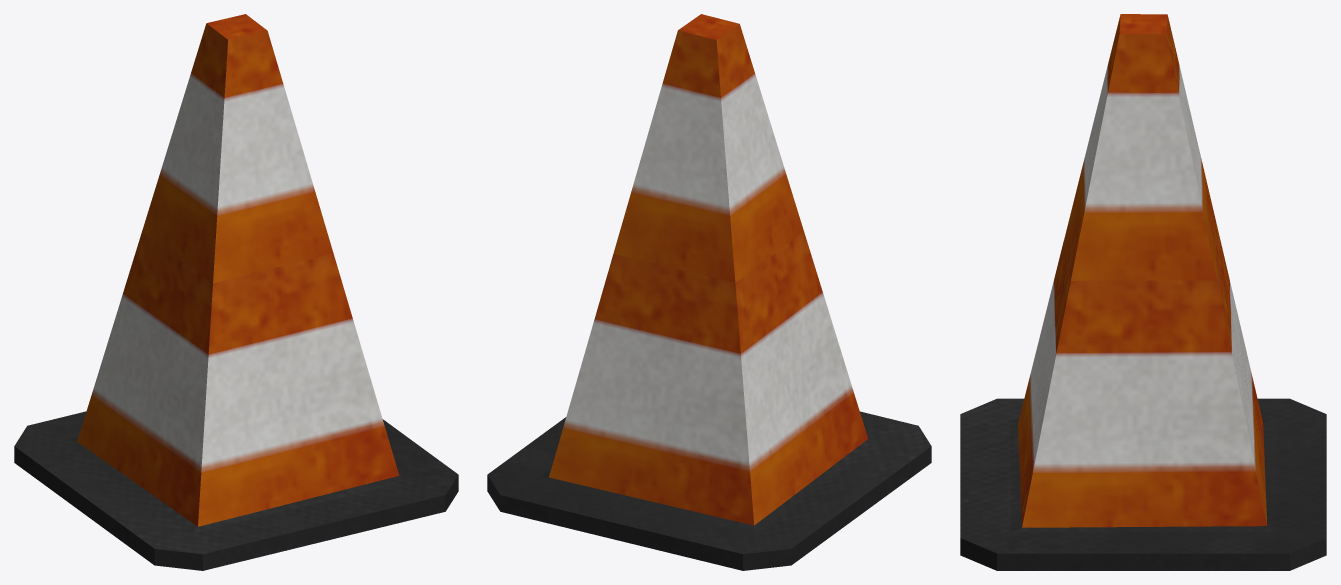
File: Traffic_cone_square_rubber.fbx
3 views of the same model, side by side, from view 1: azimuth 30°, elevation 25°; view 2: azimuth 150°, elevation 25°; view 3: azimuth 270°, elevation 25° (orthographic). The views are drawn at different scales.
Parts seen in each view (by area): view 1: Traffic_cone_square_rubber; view 2: Traffic_cone_square_rubber; view 3: Traffic_cone_square_rubber.
Boxes of the visible parts, x1,y1,x2,y2 form: Traffic_cone_square_rubber: (14,14,458,570); Traffic_cone_square_rubber: (487,14,931,570); Traffic_cone_square_rubber: (960,14,1326,570).
Size of the model in its own units: 40 by 56.56 by 40.
1 material, 1 textured.
